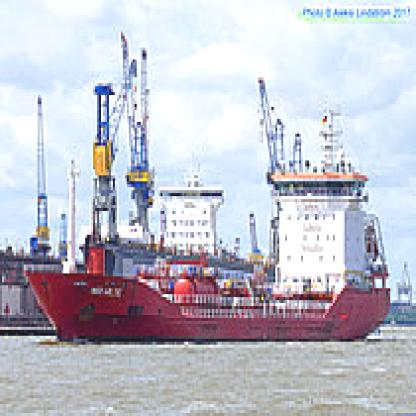Tanker: (30, 136, 386, 338)
